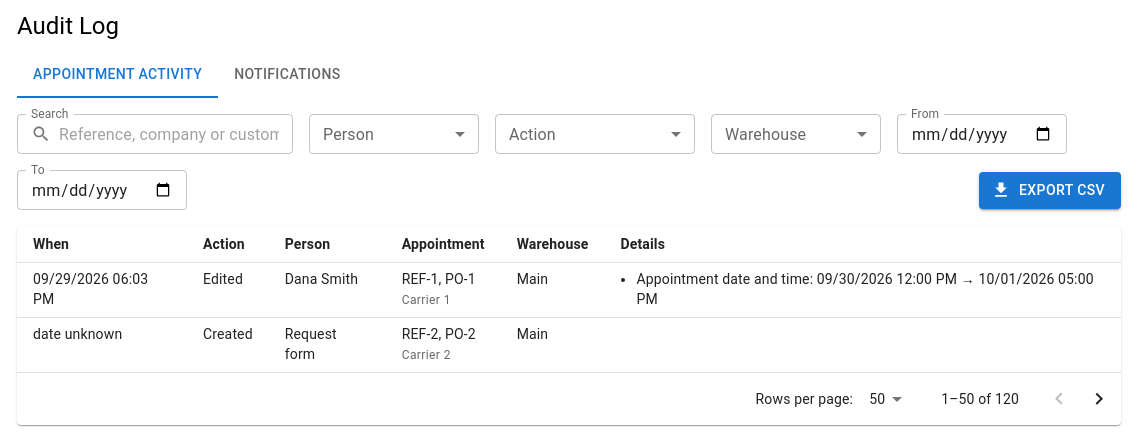
it: Notifications tab › shows the empty state
What coordinates should you click on to do the following:
click the tab "Notifications"
I would click on:
 (287, 74)
Its box is 218,50 -> 357,98.
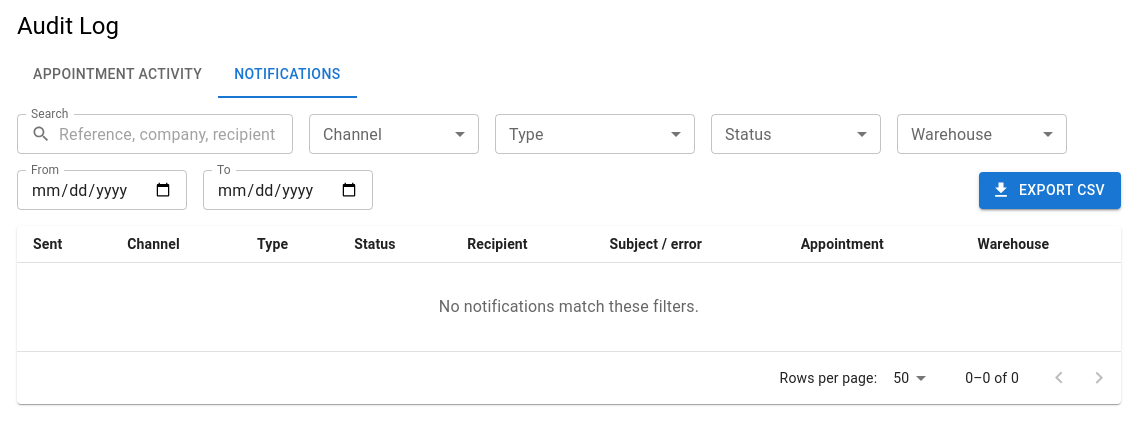
Now the text "No notifications match these filters." is shown, box 439,297 -> 699,316
